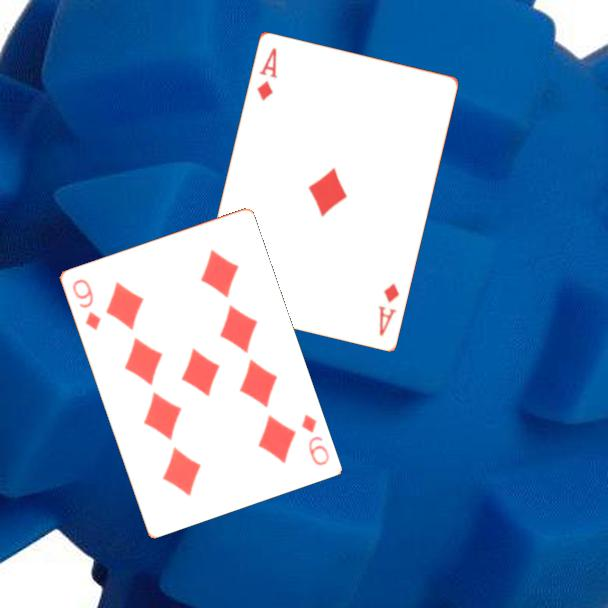d01: (374, 279, 402, 339), (253, 44, 280, 103)
d09: (68, 275, 104, 333), (298, 410, 332, 468)
